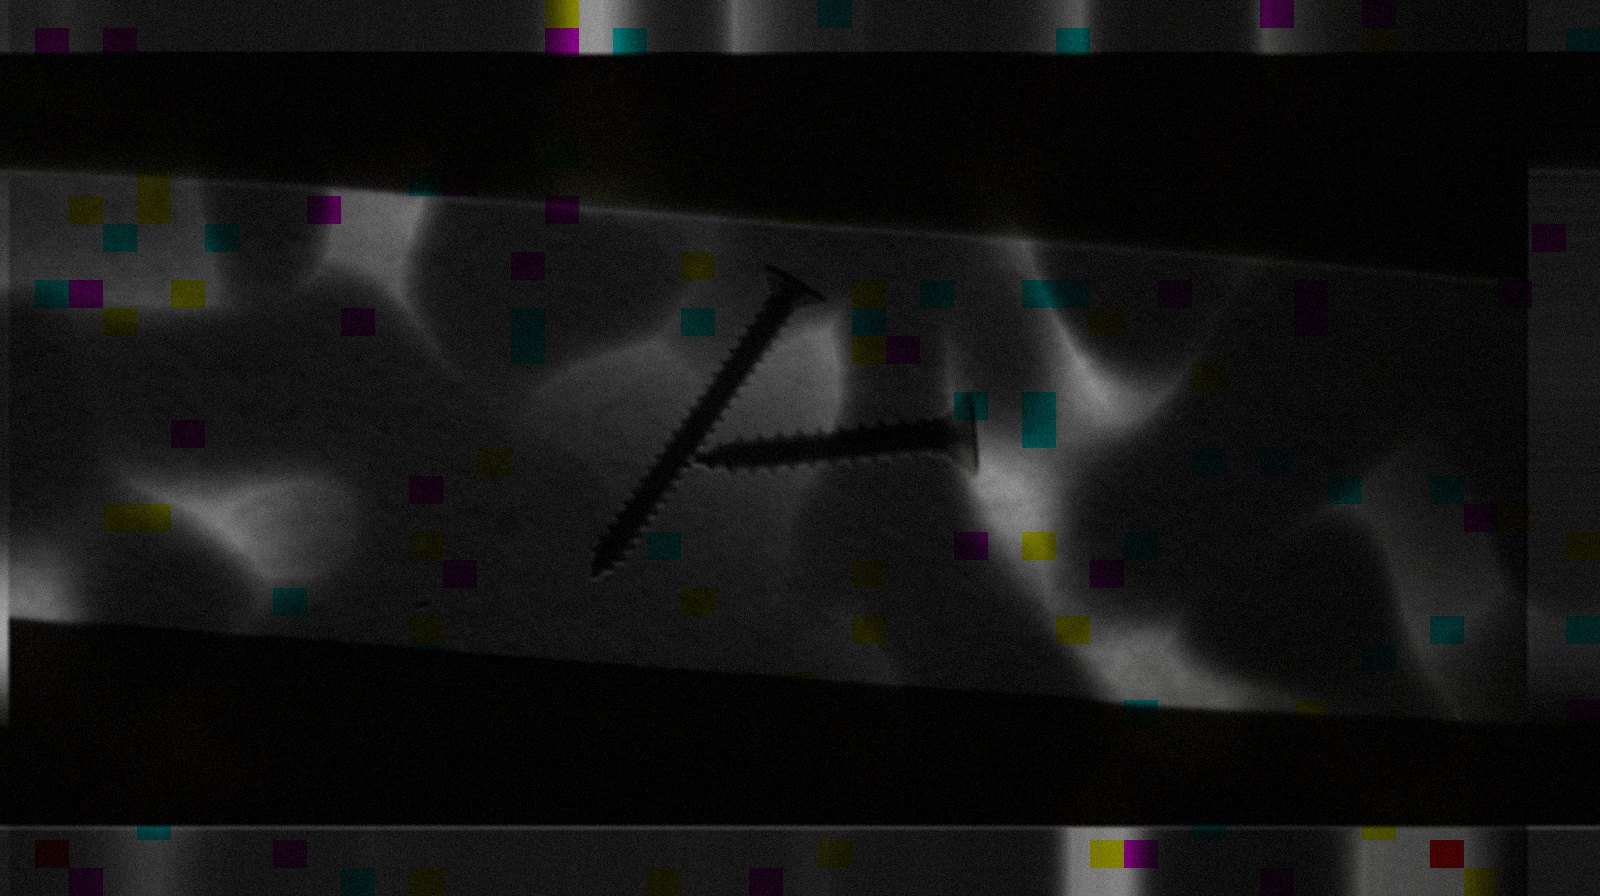S001: (695, 392, 988, 487)
S002: (580, 265, 830, 585)
